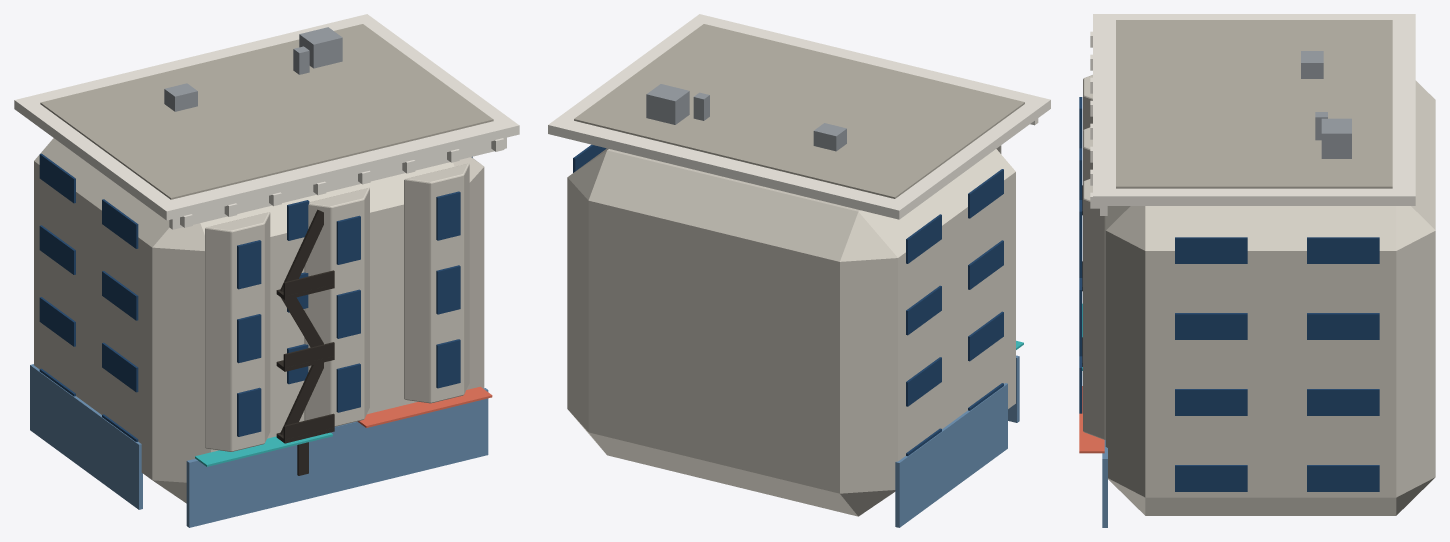
The model's file is aptfe_corner_w16_f4.glb.
The picture shows the model from 3 angles, left to right: view 1: azimuth 30°, elevation 25°; view 2: azimuth 150°, elevation 25°; view 3: azimuth 270°, elevation 25°; orthographic projection. The views are drawn at different scales.
Visible parts, largest first — view 1: walls, roofslab, shop, corn, bay.002, bay, bay.001, shopside, frieze, awn.001, hvac2, awn (+23 smaller); view 2: walls, roofslab, corn, shopside, hvac2, sb.004, sb.006, sb.010, sb.012, sb.014, sb.008, hvac; view 3: walls, roofslab, corn, bay.002, sb.001, sb.003, sb.005, sb.007, sb.009, sb.011, sb.013, sb.015 (+6 smaller).
Boxes of the visible parts, left/top/right/bottom form: walls: left=34, top=138, right=484, bottom=503; roofslab: left=40, top=24, right=493, bottom=199; shop: left=186, top=388, right=488, bottom=527; corn: left=14, top=14, right=519, bottom=220; bay.002: left=404, top=163, right=469, bottom=403; bay: left=205, top=212, right=270, bottom=451; bay.001: left=304, top=187, right=369, bottom=426; shopside: left=30, top=364, right=142, bottom=509; frieze: left=169, top=137, right=506, bottom=229; awn.001: left=357, top=386, right=492, bottom=427; hvac2: left=299, top=27, right=342, bottom=68; awn: left=195, top=432, right=332, bottom=466; walls: left=567, top=148, right=1015, bottom=516; roofslab: left=574, top=24, right=1024, bottom=198; corn: left=548, top=14, right=1050, bottom=219; shopside: left=895, top=383, right=1007, bottom=527; hvac2: left=646, top=84, right=689, bottom=124; sb.004: left=968, top=311, right=1003, bottom=361; sb.006: left=906, top=357, right=941, bottom=406; sb.010: left=906, top=285, right=941, bottom=335; sb.012: left=968, top=169, right=1003, bottom=218; sb.014: left=906, top=214, right=941, bottom=263; sb.008: left=968, top=240, right=1003, bottom=289; hvac: left=813, top=123, right=846, bottom=151; walls: left=1105, top=80, right=1435, bottom=515; roofslab: left=1116, top=20, right=1392, bottom=188; corn: left=1093, top=14, right=1415, bottom=205; bay.002: left=1083, top=179, right=1105, bottom=439; sb.001: left=1175, top=465, right=1247, bottom=491; sb.003: left=1307, top=465, right=1379, bottom=491; sb.005: left=1175, top=389, right=1247, bottom=415; sb.007: left=1307, top=389, right=1379, bottom=415; sb.009: left=1175, top=313, right=1247, bottom=339; sb.011: left=1307, top=313, right=1379, bottom=339; sb.013: left=1175, top=237, right=1247, bottom=263; sb.015: left=1307, top=237, right=1379, bottom=263.
Size of the model in its own units: 17 by 16.2 by 14.05.
